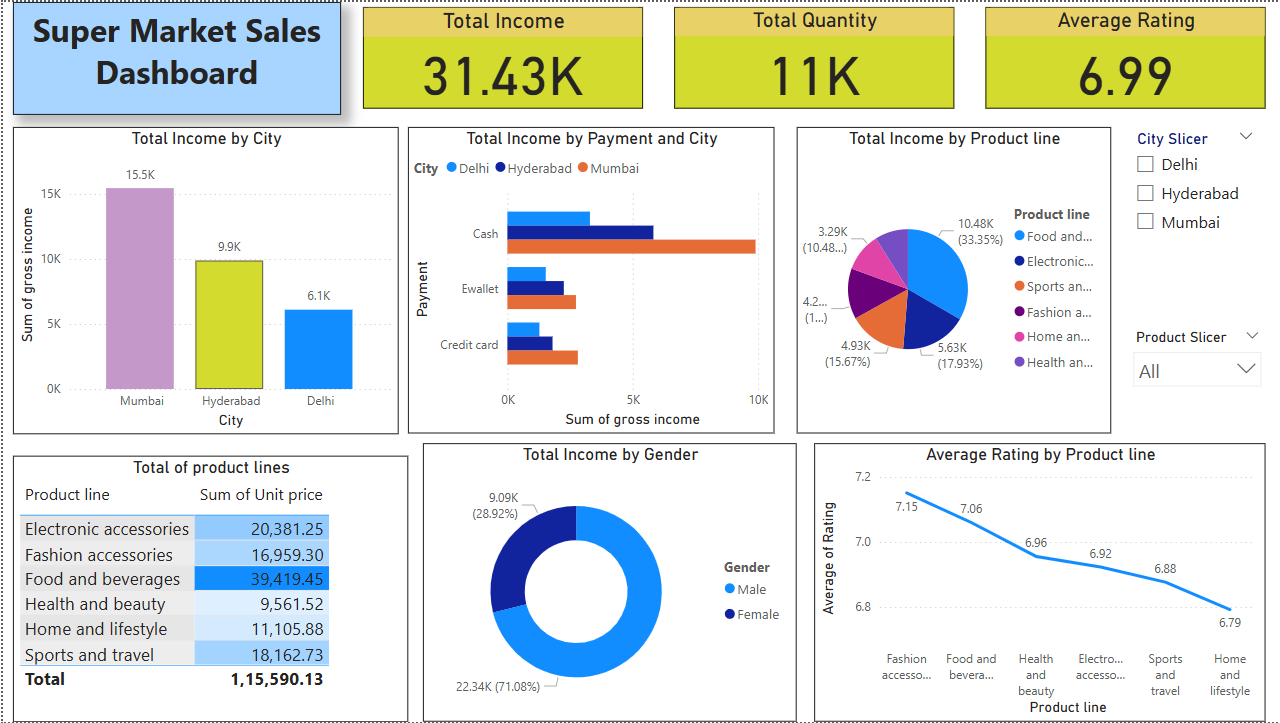

What the dashboard file says about the page in this screenshot:
{"tool":"powerbi","page":{"name":"SuperMarket Sales Data","canvas":[1280,720],"ordinal":0},"visuals":[{"type":"textbox","box":[9.6,0,328,112.5],"z":0},{"type":"textbox","box":[10,290,280,280],"z":1000},{"type":"card","title":"Total Income","fields":{"Values":["Sum(Realmart Sales Dataset.gross income)"]},"box":[359.5,5.5,279.9,101.5],"z":2000},{"type":"card","title":"Total Quantity","fields":{"Values":["Sum(Realmart Sales Dataset.Quantity)"]},"box":[671,5.5,279.9,101.5],"z":3000},{"type":"card","title":" Average Rating","fields":{"Values":["Avg(Realmart Sales Dataset.Rating)"]},"box":[982.5,5.5,279.9,101.5],"z":4000},{"type":"columnChart","title":"Total Income by City","fields":{"Category":["Realmart Sales Dataset.City"],"Y":["Sum(Realmart Sales Dataset.gross income)"]},"box":[9.6,124.9,385.6,307.4],"z":5000},{"type":"clusteredBarChart","title":"Total Income by Payment and City","fields":{"Y":["Sum(Realmart Sales Dataset.gross income)"],"Category":["Realmart Sales Dataset.Payment"],"Series":["Realmart Sales Dataset.City"]},"box":[404.8,124.9,366.4,306],"z":6000},{"type":"lineChart","title":"Average  Rating by Product line","fields":{"Category":["Realmart Sales Dataset.Product line"],"Y":["Avg(Realmart Sales Dataset.Rating)"]},"box":[811,441.9,451.5,278.6],"z":7000},{"type":"pieChart","title":"Total Income by Product line","fields":{"Category":["Realmart Sales Dataset.Product line"],"Y":["Sum(Realmart Sales Dataset.gross income)"]},"box":[793.1,124.9,314.2,306],"z":8000},{"type":"donutChart","title":"Total Income by Gender","fields":{"Category":["Realmart Sales Dataset.Gender"],"Y":["Sum(Realmart Sales Dataset.gross income)"]},"box":[419.9,441.9,373.2,278.6],"z":9000},{"type":"tableEx","title":"Total of product lines","fields":{"Values":["Realmart Sales Dataset.Product line","Sum(Realmart Sales Dataset.Unit price)"]},"box":[9.6,454.2,395.2,266.2],"z":10000},{"type":"slicer","fields":{"Values":["Realmart Sales Dataset.City"]},"box":[1121.1,122.1,141.3,141.3],"z":11000},{"type":"slicer","fields":{"Values":["Realmart Sales Dataset.Product line"]},"box":[1112.9,322.5,149.6,96.1],"z":12000}]}

Visuals, with their boxes in screenshot pixels (x1, y1, x2, y2), scaled from the page's 1280x720 canvas onto the 1280x723 screenshot:
textbox: (10,0,338,113)
textbox: (10,291,290,572)
"Total Income" card: (360,6,639,107)
"Total Quantity" card: (671,6,951,107)
" Average Rating" card: (982,6,1262,107)
"Total Income by City" columnChart: (10,125,395,434)
"Total Income by Payment and City" clusteredBarChart: (405,125,771,433)
"Average  Rating by Product line" lineChart: (811,444,1262,722)
"Total Income by Product line" pieChart: (793,125,1107,433)
"Total Income by Gender" donutChart: (420,444,793,722)
"Total of product lines" tableEx: (10,456,405,722)
slicer - Realmart Sales Dataset.City: (1121,123,1262,264)
slicer - Realmart Sales Dataset.Product line: (1113,324,1262,420)
